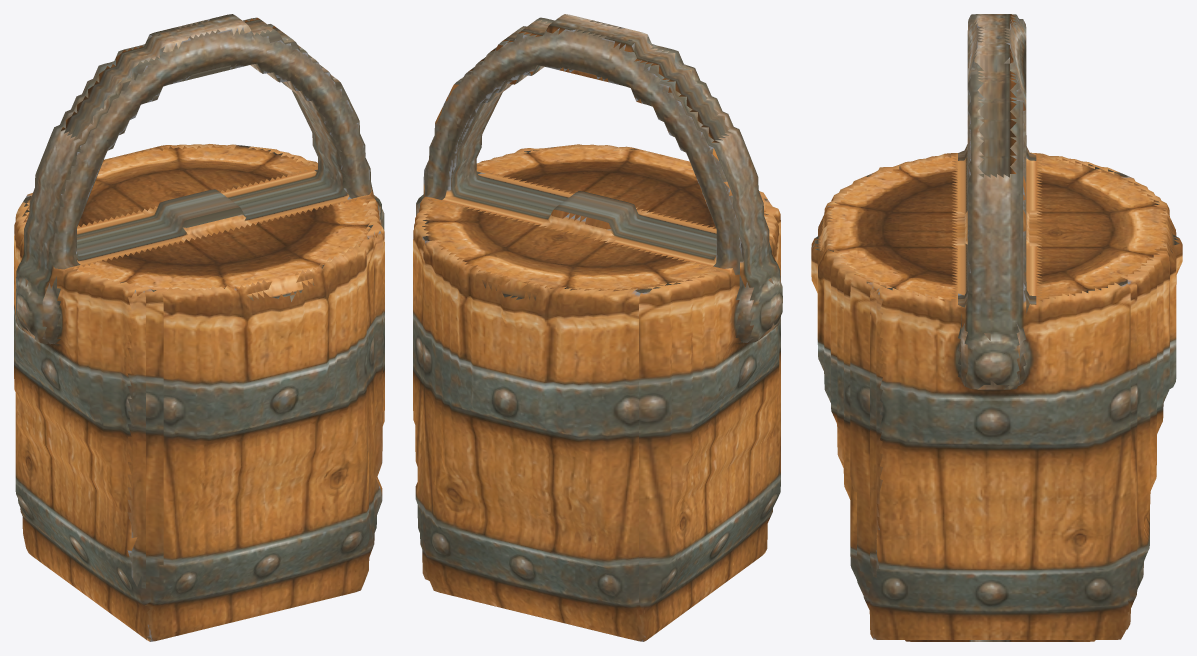
Rendered from pail.glb.
3 views of the same model, side by side, from view 1: azimuth 30°, elevation 25°; view 2: azimuth 150°, elevation 25°; view 3: azimuth 270°, elevation 25° (orthographic). The views are drawn at different scales.
Size of the model in its own units: 0.6675 by 1 by 0.5934.
1 material, 1 textured.
